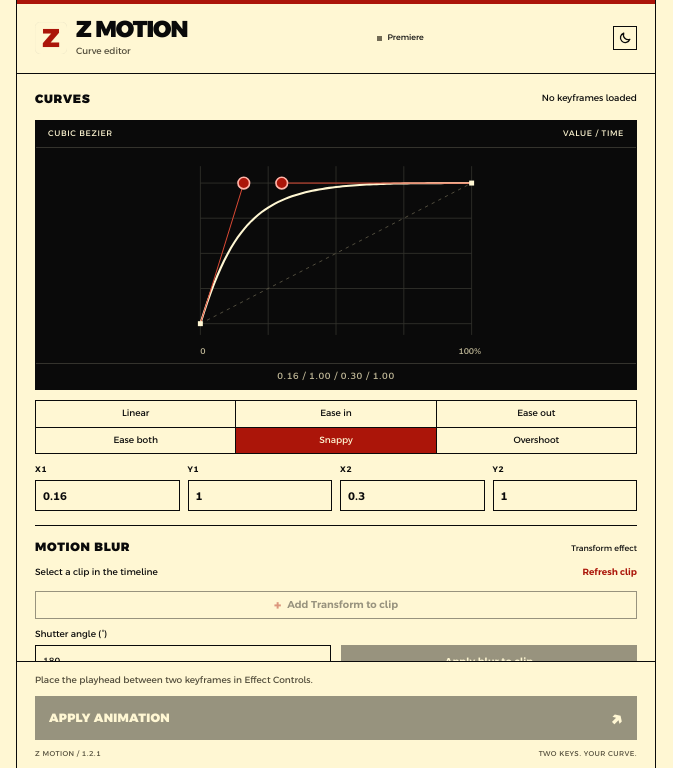
Scenario: curve-only panel › applies the visible curve to the loaded endpoint values and duration
Hover over the element that starts with "Z Motion" at (336, 384), box [16,0,656,767]
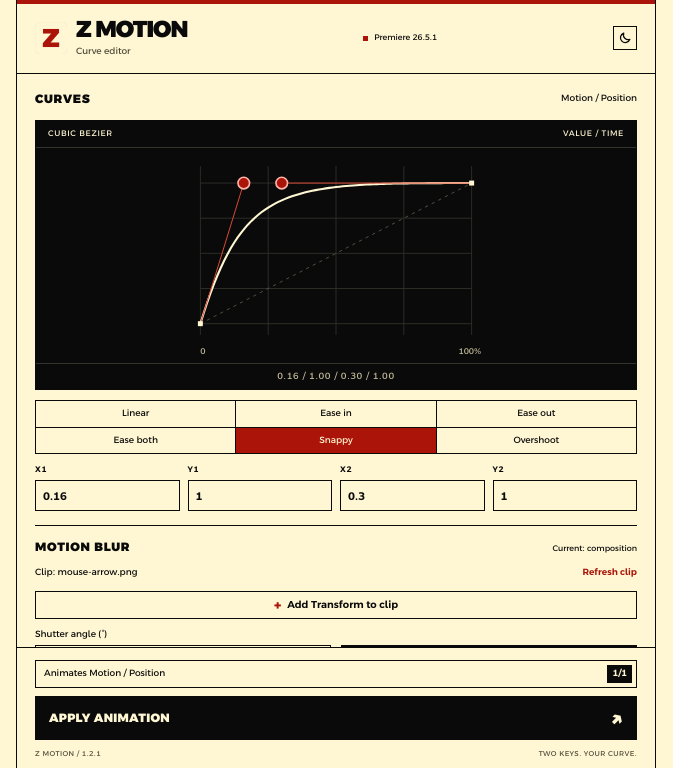
Expected: the text "Motion / Position" is shown, [561,92,637,106]
Click the button "Ease in" at (336, 414), box [236,401,437,428]
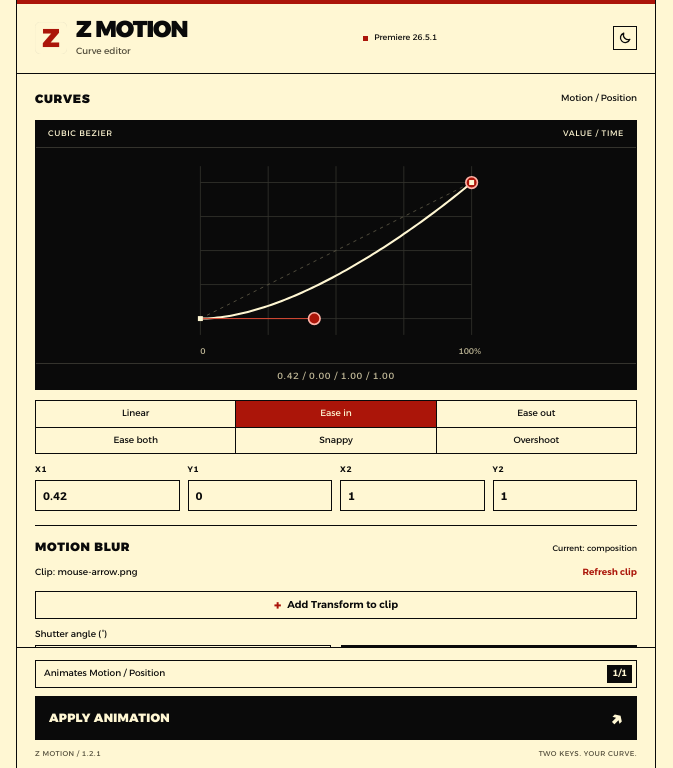
Click the button "Apply animation ↗" at (109, 718), box [35,696,637,740]
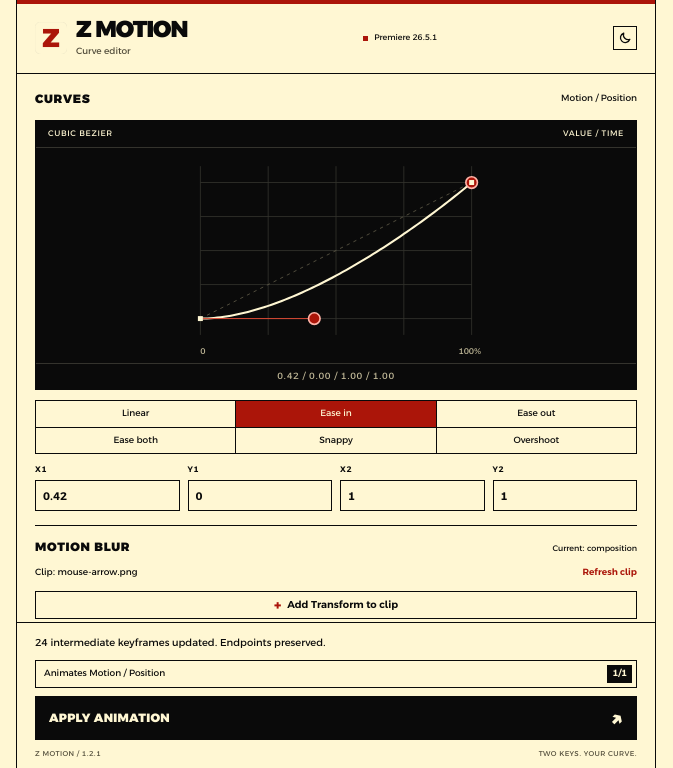
Expected: the message "24 intermediate keyframes updated. Endpoints preserved." is shown, [35,637,326,648]
